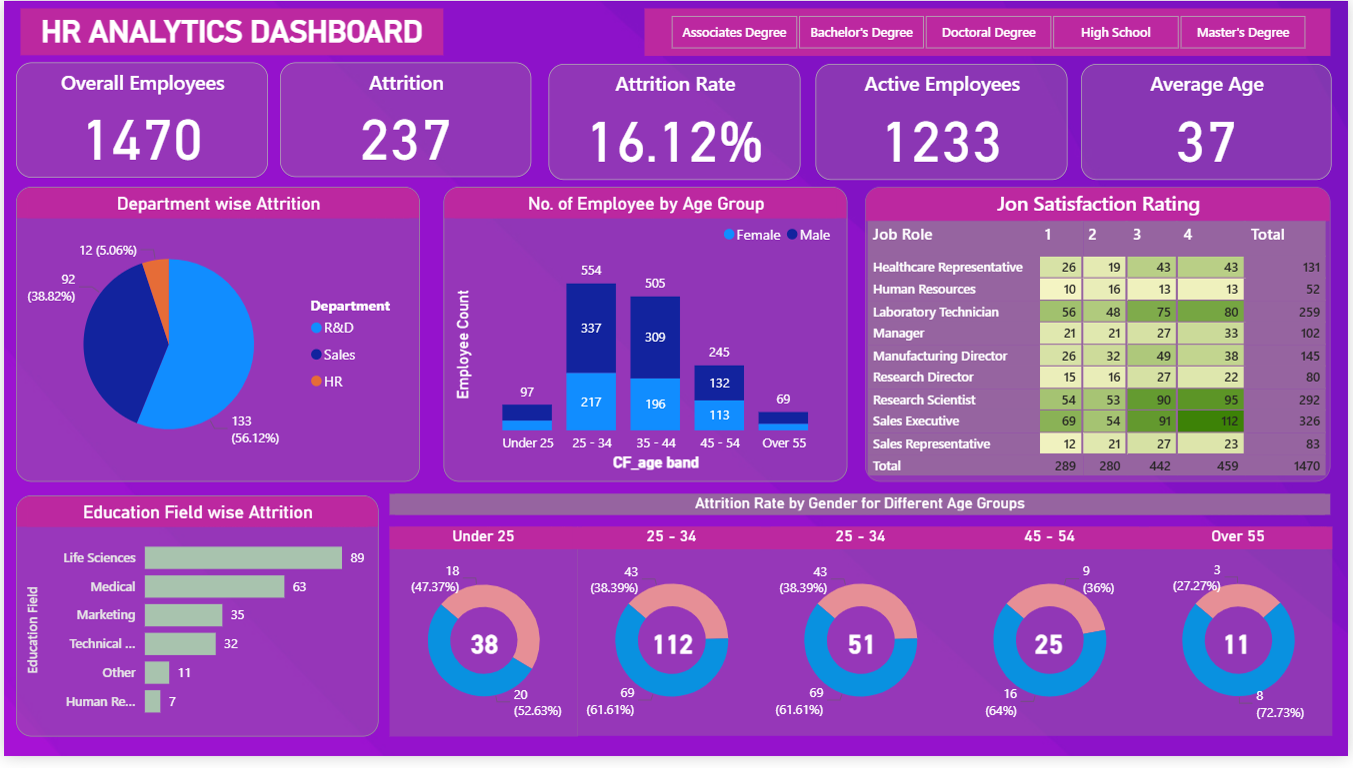

The dashboard page shown, as its layout file describes it:
{"tool":"powerbi","page":{"name":"Page 1","canvas":[1280,720],"ordinal":0},"visuals":[{"type":"card","title":"Overall Employees","fields":{"Values":["Sum(HR data.Employee Count)"]},"box":[12.1,58.3,240,110],"z":0},{"type":"card","title":"Attrition","fields":{"Values":["Sum(HR data.Attrition Count)"]},"box":[263.5,58.7,239.2,109],"z":1000},{"type":"card","title":"Attrition Rate","fields":{"Values":["HR data.Attrition rate"]},"box":[519.2,60.5,240.2,110.7],"z":2000},{"type":"card","title":"Active Employees","fields":{"Values":["HR data.Active Employees"]},"box":[772.3,60.5,240.2,110.7],"z":3000},{"type":"card","title":"Average Age","fields":{"Values":["Avg(HR data.Age)"]},"box":[1025.4,60.5,238.7,110.7],"z":4000},{"type":"pieChart","title":"Department wise Attrition ","fields":{"Category":["HR data.Department"],"Y":["Sum(HR data.Attrition Count)"]},"box":[12.1,177.2,384.6,281.6],"z":5000},{"type":"columnChart","title":"No. of Employee by Age Group","fields":{"Category":["HR data.CF_age band"],"Y":["Sum(HR data.Employee Count)"],"Series":["HR data.Gender"]},"box":[417.9,177.2,384.6,281.6],"z":6000},{"type":"pivotTable","title":"Jon Satisfaction Rating","fields":{"Rows":["HR data.Job Role"],"Values":["HR data.Employee Count 2"],"Columns":["HR data.Job Satisfaction"]},"box":[820.7,177.2,443.7,281.6],"z":7000},{"type":"barChart","title":"Education Field wise Attrition","fields":{"Category":["HR data.Education Field"],"Y":["Sum(HR data.Attrition Count)"]},"box":[12.1,470.9,345,230],"z":7002},{"type":"donutChart","title":"Under 25","fields":{"Category":["HR data.Gender"],"Y":["Sum(HR data.Attrition Count)"],"Series":["HR data.CF_age band"]},"box":[367.2,500.9,179,200],"z":7003},{"type":"textbox","title":"Attrition Rate by Gender for Different Age Groups","box":[367.6,470.3,895.9,20.3],"z":7004},{"type":"donutChart","title":"25 - 34","fields":{"Category":["HR data.Gender"],"Y":["Sum(HR data.Attrition Count)"],"Series":["HR data.CF_age band"]},"box":[545.7,501.2,179.9,199.4],"z":7005},{"type":"donutChart","title":"25 - 34","fields":{"Category":["HR data.Gender"],"Y":["Sum(HR data.Attrition Count)"],"Series":["HR data.CF_age band"]},"box":[725.6,501.2,179.9,199.4],"z":7006},{"type":"donutChart","title":"45 - 54","fields":{"Category":["HR data.Gender"],"Y":["Sum(HR data.Attrition Count)"],"Series":["HR data.CF_age band"]},"box":[905.5,501.2,179.9,199.4],"z":7007},{"type":"donutChart","title":"Over 55","fields":{"Category":["HR data.Gender"],"Y":["Sum(HR data.Attrition Count)"],"Series":["HR data.CF_age band"]},"box":[1085.4,501.2,179.3,199.4],"z":7008},{"type":"card","fields":{"Values":["Sum(HR data.Attrition Count)"]},"box":[418.2,591.7,77.3,40.9],"z":7009},{"type":"card","fields":{"Values":["Sum(HR data.Attrition Count)"]},"box":[597.6,591.6,78.3,41],"z":7010},{"type":"card","fields":{"Values":["Sum(HR data.Attrition Count)"]},"box":[777.1,591.6,78.3,41],"z":7011},{"type":"card","fields":{"Values":["Sum(HR data.Attrition Count)"]},"box":[955.4,591.6,78.3,41],"z":7012},{"type":"card","fields":{"Values":["Sum(HR data.Attrition Count)"]},"box":[1134.9,591.6,78.3,41],"z":7013},{"type":"textbox","box":[15.4,7.1,402.6,44.9],"z":7014},{"type":"slicer","fields":{"Values":["HR data.Education"]},"box":[609.9,7,653.5,45.1],"z":7015}]}

Visuals, with their boxes in screenshot pixels (x1, y1, x2, y2), scaled from the page's 1280x720 canvas onto the 1353x768 screenshot:
"Overall Employees" card: detection(13, 62, 266, 180)
"Attrition" card: detection(279, 63, 531, 179)
"Attrition Rate" card: detection(549, 65, 803, 183)
"Active Employees" card: detection(816, 65, 1070, 183)
"Average Age" card: detection(1084, 65, 1336, 183)
"Department wise Attrition " pieChart: detection(13, 189, 419, 489)
"No. of Employee by Age Group" columnChart: detection(442, 189, 848, 489)
"Jon Satisfaction Rating" pivotTable: detection(868, 189, 1337, 489)
"Education Field wise Attrition" barChart: detection(13, 502, 377, 748)
"Under 25" donutChart: detection(388, 534, 577, 748)
"Attrition Rate by Gender for Different Age Groups" textbox: detection(389, 502, 1336, 523)
"25 - 34" donutChart: detection(577, 535, 767, 747)
"25 - 34" donutChart: detection(767, 535, 957, 747)
"45 - 54" donutChart: detection(957, 535, 1147, 747)
"Over 55" donutChart: detection(1147, 535, 1337, 747)
card - Sum(HR data.Attrition Count): detection(442, 631, 524, 675)
card - Sum(HR data.Attrition Count): detection(632, 631, 714, 675)
card - Sum(HR data.Attrition Count): detection(821, 631, 904, 675)
card - Sum(HR data.Attrition Count): detection(1010, 631, 1093, 675)
card - Sum(HR data.Attrition Count): detection(1200, 631, 1282, 675)
textbox: detection(16, 8, 442, 55)
slicer - HR data.Education: detection(645, 7, 1335, 56)
